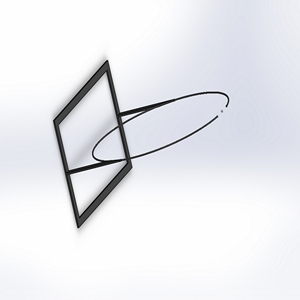circle: (50, 58, 231, 229)
